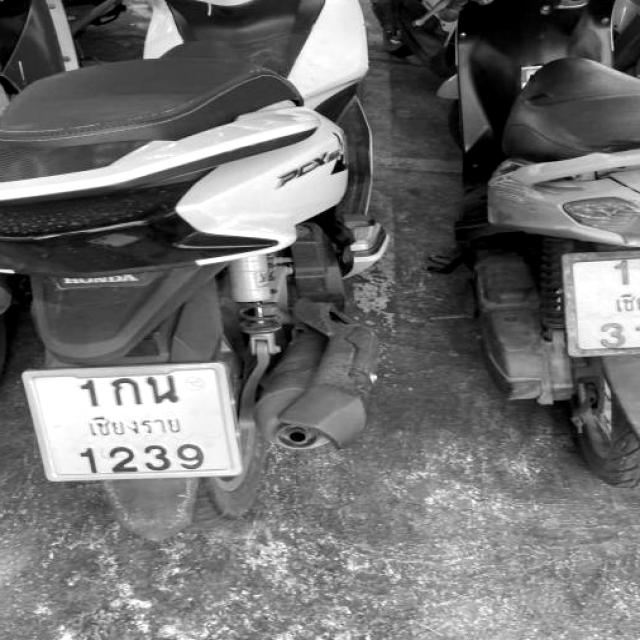letters: (112, 378, 144, 411), (108, 445, 144, 474), (176, 440, 208, 472), (147, 374, 181, 401), (83, 438, 102, 478), (599, 324, 626, 349), (74, 380, 104, 402), (614, 256, 631, 287), (144, 446, 164, 467)
license-plate: (24, 366, 241, 481), (564, 254, 640, 357)
province: (79, 414, 198, 436), (607, 292, 640, 312)
